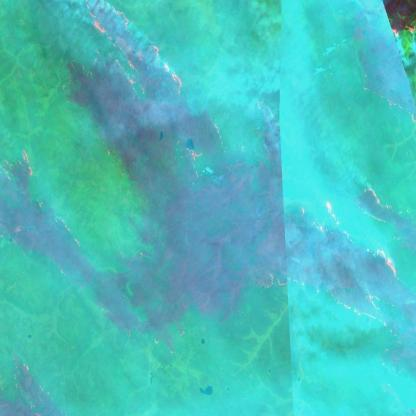fire: (307, 180, 405, 330), (62, 0, 187, 104), (0, 142, 76, 297), (181, 92, 277, 188), (0, 366, 54, 416)
